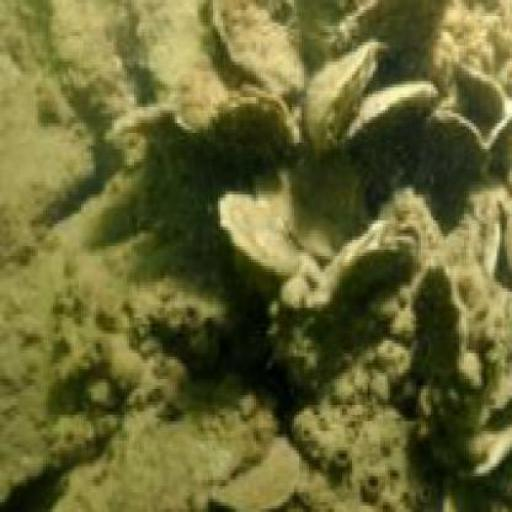Oyster-Closed: (215, 5, 303, 100), (312, 43, 382, 157)
Oyster-Open: (411, 270, 504, 460), (432, 62, 512, 190), (202, 86, 297, 164)
